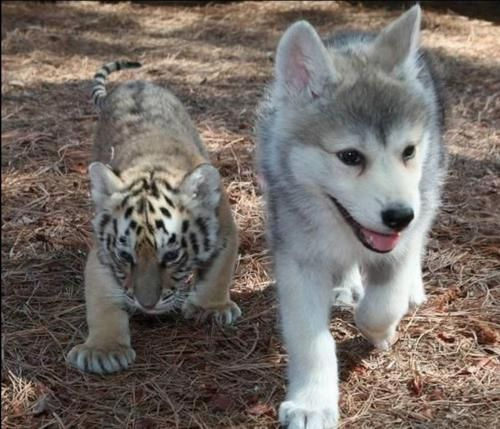dog: (252, 13, 449, 429)
tiger: (73, 62, 237, 364)
